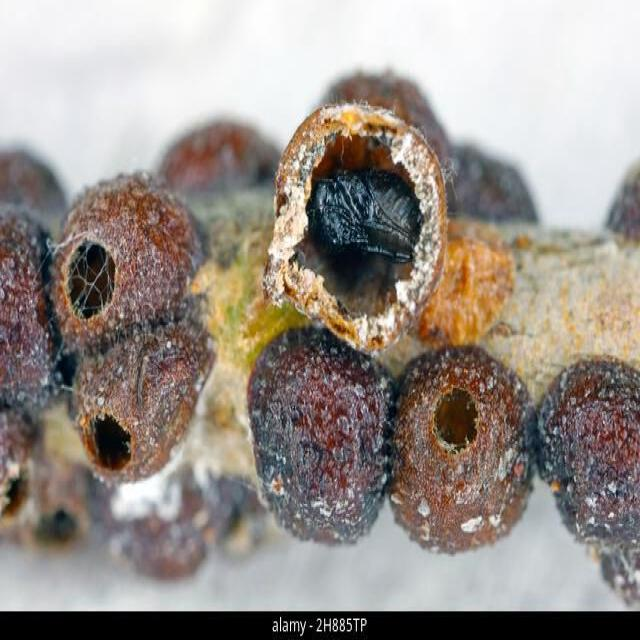Black Scale: (61, 173, 212, 478), (263, 103, 446, 331), (248, 332, 393, 541), (390, 346, 532, 551), (538, 358, 639, 550), (0, 206, 62, 428)
